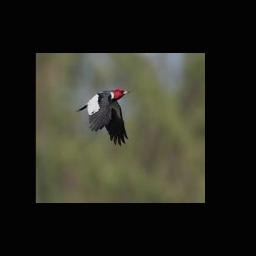Woodpecker: (75, 88, 130, 146)
